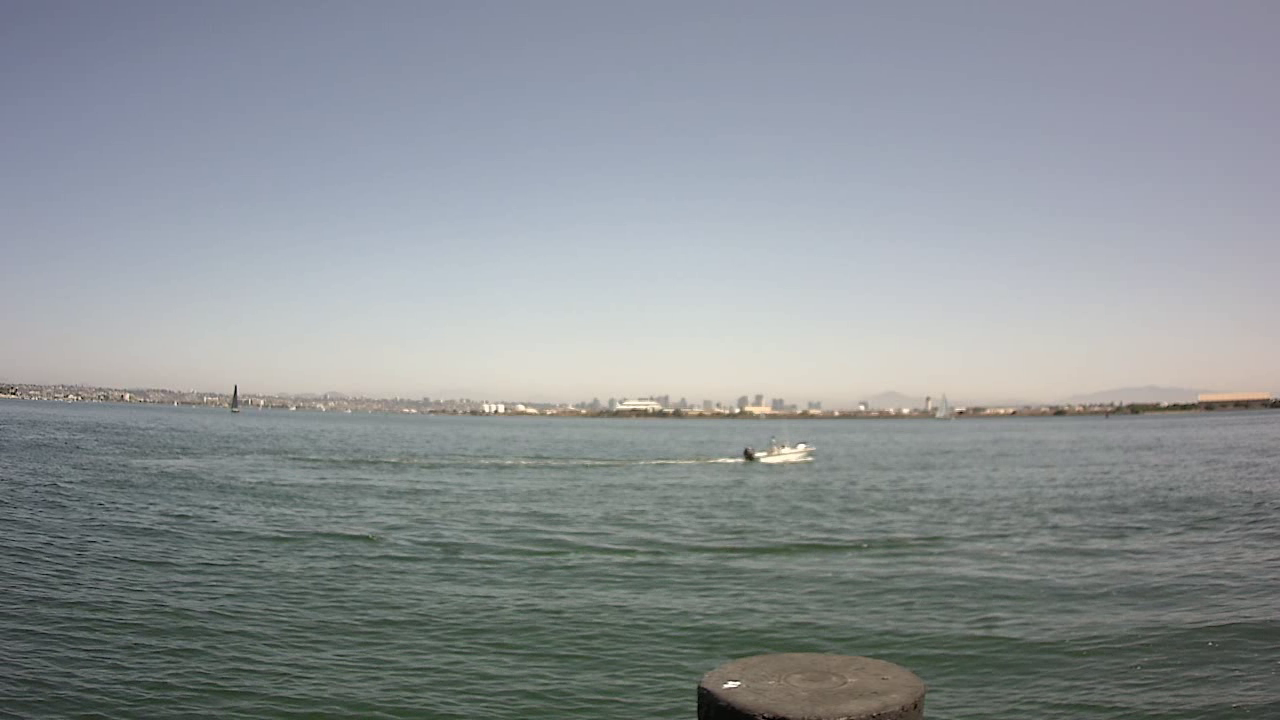target: (739, 416, 825, 472)
